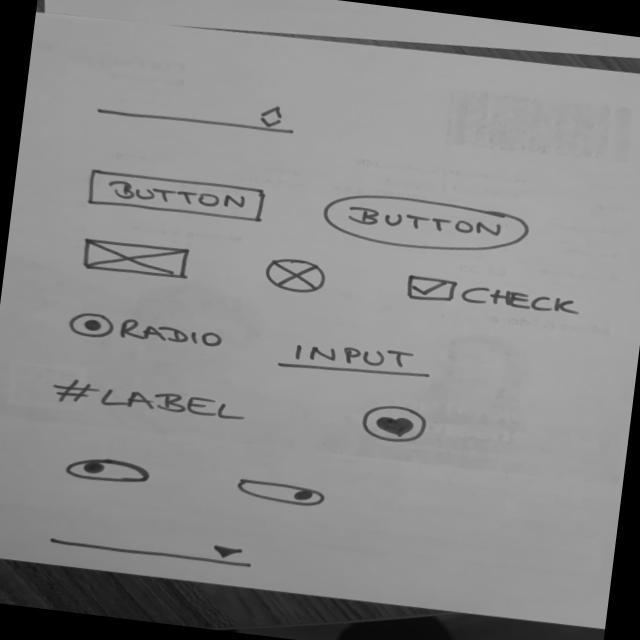button: (314, 186, 538, 264), (77, 163, 270, 226)
checkbox: (390, 270, 584, 324)
icon-button: (357, 400, 432, 448)
image: (75, 234, 194, 282), (255, 251, 338, 299)
input: (273, 331, 440, 388)
label: (46, 371, 250, 428)
number-input: (90, 79, 300, 139)
radio: (65, 306, 228, 356)
select: (39, 520, 258, 574)
toggle: (231, 474, 330, 511), (61, 452, 156, 488)
